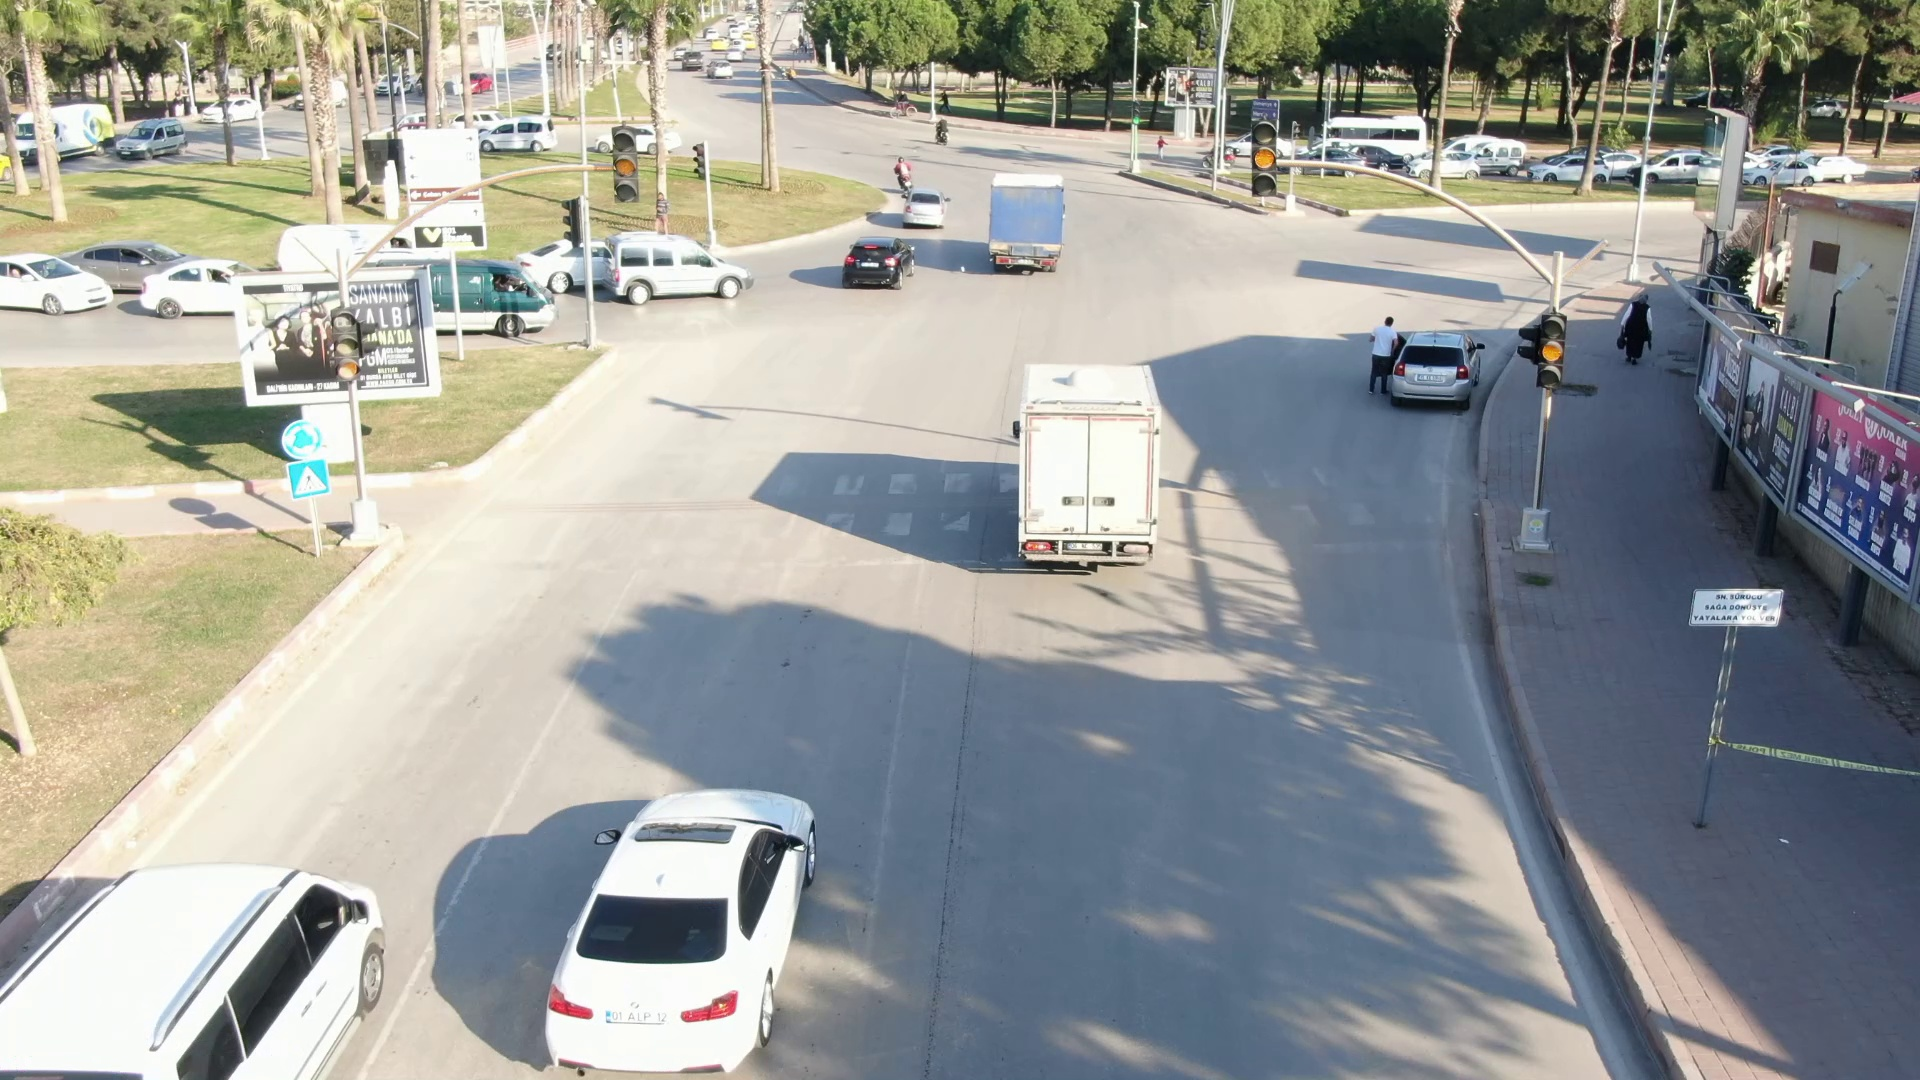car: (517, 753, 887, 1080), (598, 224, 764, 312), (1398, 321, 1500, 418), (1, 244, 117, 320), (839, 233, 923, 296), (110, 112, 196, 165), (896, 186, 959, 229)
person: (1609, 288, 1659, 366), (1356, 311, 1398, 399)
